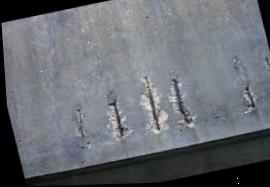exposed_rebar: (144, 75, 160, 130), (173, 78, 189, 122), (108, 99, 124, 136), (245, 86, 255, 107), (265, 57, 270, 71), (78, 109, 83, 121)
spalling: (141, 74, 168, 133), (169, 69, 195, 128), (233, 56, 257, 111), (107, 90, 133, 140), (73, 104, 85, 137), (265, 55, 270, 73)
